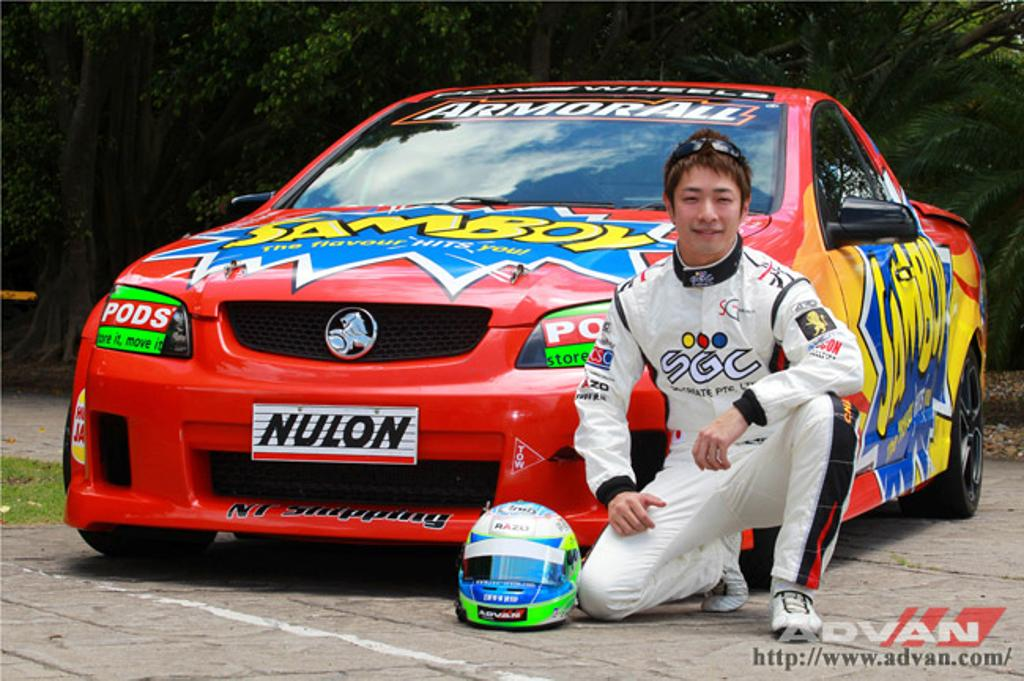face: (672, 166, 742, 254)
